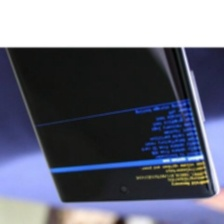phone: (0, 0, 221, 208)
